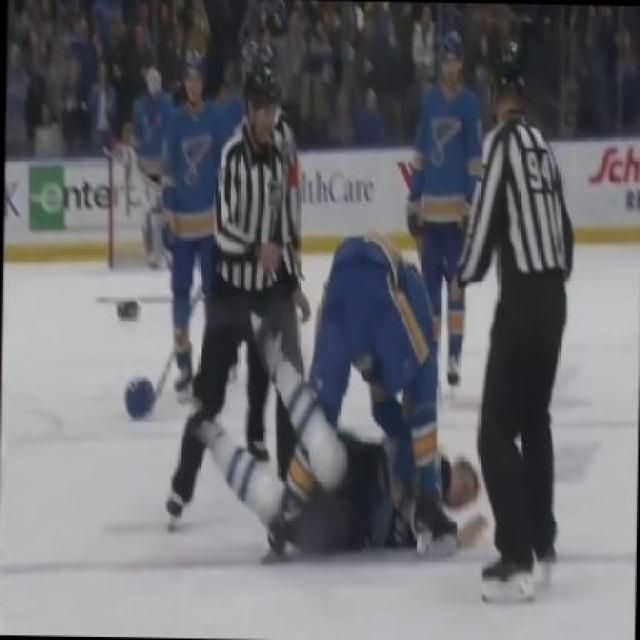fight: (178, 235, 489, 562)
non-fight: (454, 57, 580, 585), (168, 71, 310, 538), (162, 54, 244, 387), (405, 32, 475, 386)
